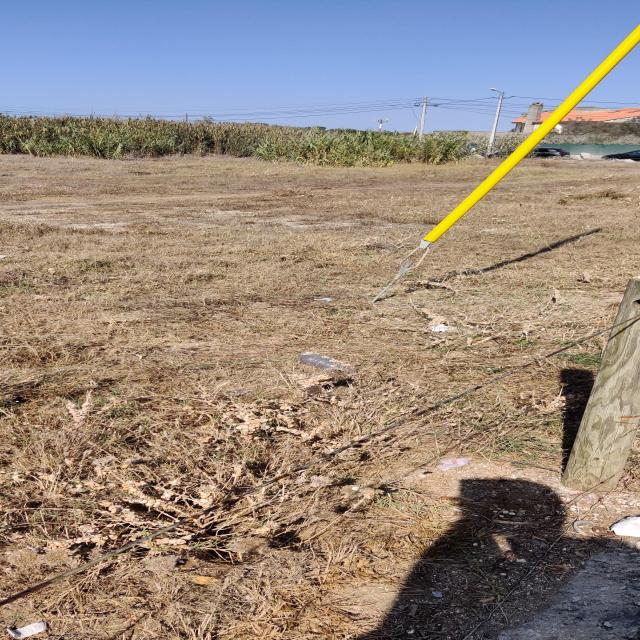litter: (297, 352, 353, 370), (6, 622, 53, 639), (434, 457, 472, 472), (430, 324, 474, 334), (573, 520, 594, 537), (313, 297, 333, 301), (433, 591, 442, 597)
